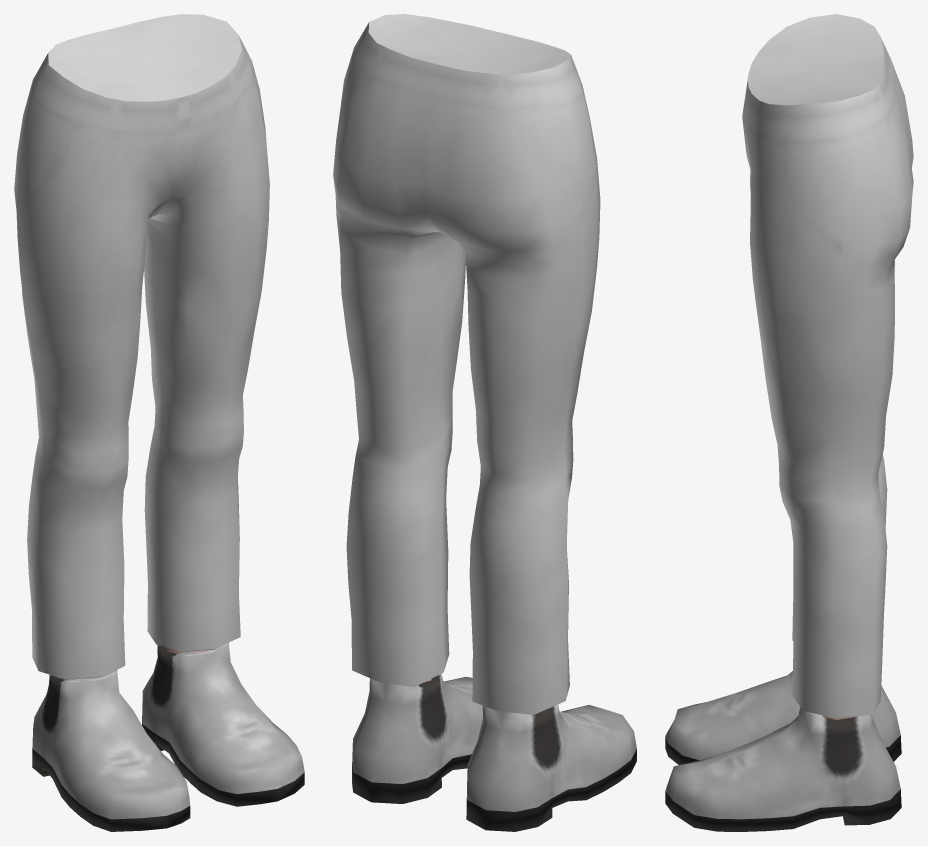
File: tr0810_00_lwb00.gltf
3 views of the same model, side by side, from view 1: azimuth 30°, elevation 25°; view 2: azimuth 150°, elevation 25°; view 3: azimuth 270°, elevation 25° (orthographic). The views are drawn at different scales.
Parts seen in each view (by area): view 1: lwb00_lowerbody_mesh_shape:lowerbody00, lwb00_shoes_mesh_shape:lowerbody00; view 2: lwb00_lowerbody_mesh_shape:lowerbody00, lwb00_shoes_mesh_shape:lowerbody00; view 3: lwb00_lowerbody_mesh_shape:lowerbody00, lwb00_shoes_mesh_shape:lowerbody00.
Part boxes in pixels (x1,y1,x2,y2): lwb00_lowerbody_mesh_shape:lowerbody00: (14, 14, 269, 679); lwb00_shoes_mesh_shape:lowerbody00: (32, 642, 304, 831); lwb00_lowerbody_mesh_shape:lowerbody00: (333, 14, 600, 714); lwb00_shoes_mesh_shape:lowerbody00: (352, 673, 636, 831); lwb00_lowerbody_mesh_shape:lowerbody00: (742, 14, 913, 718); lwb00_shoes_mesh_shape:lowerbody00: (665, 671, 901, 831).
Size of what is drawn, in the model's own units: 0.3355 by 0.9742 by 0.3029.
Materials: 2 (2 with a texture image).
